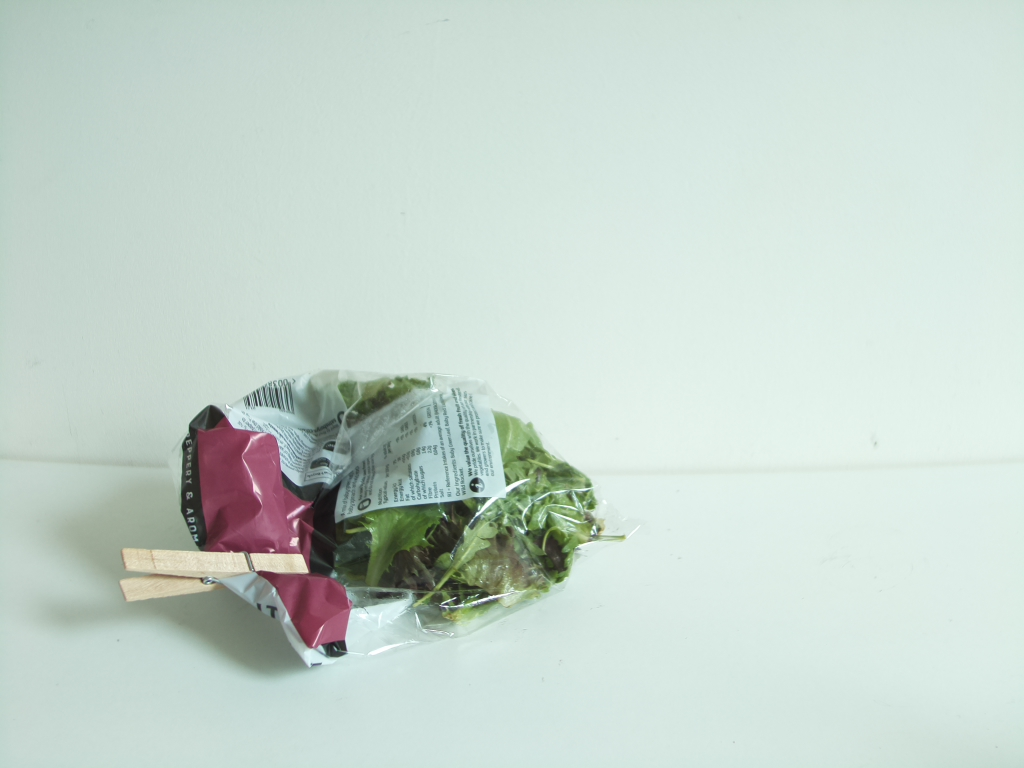salad: (187, 368, 615, 668)
